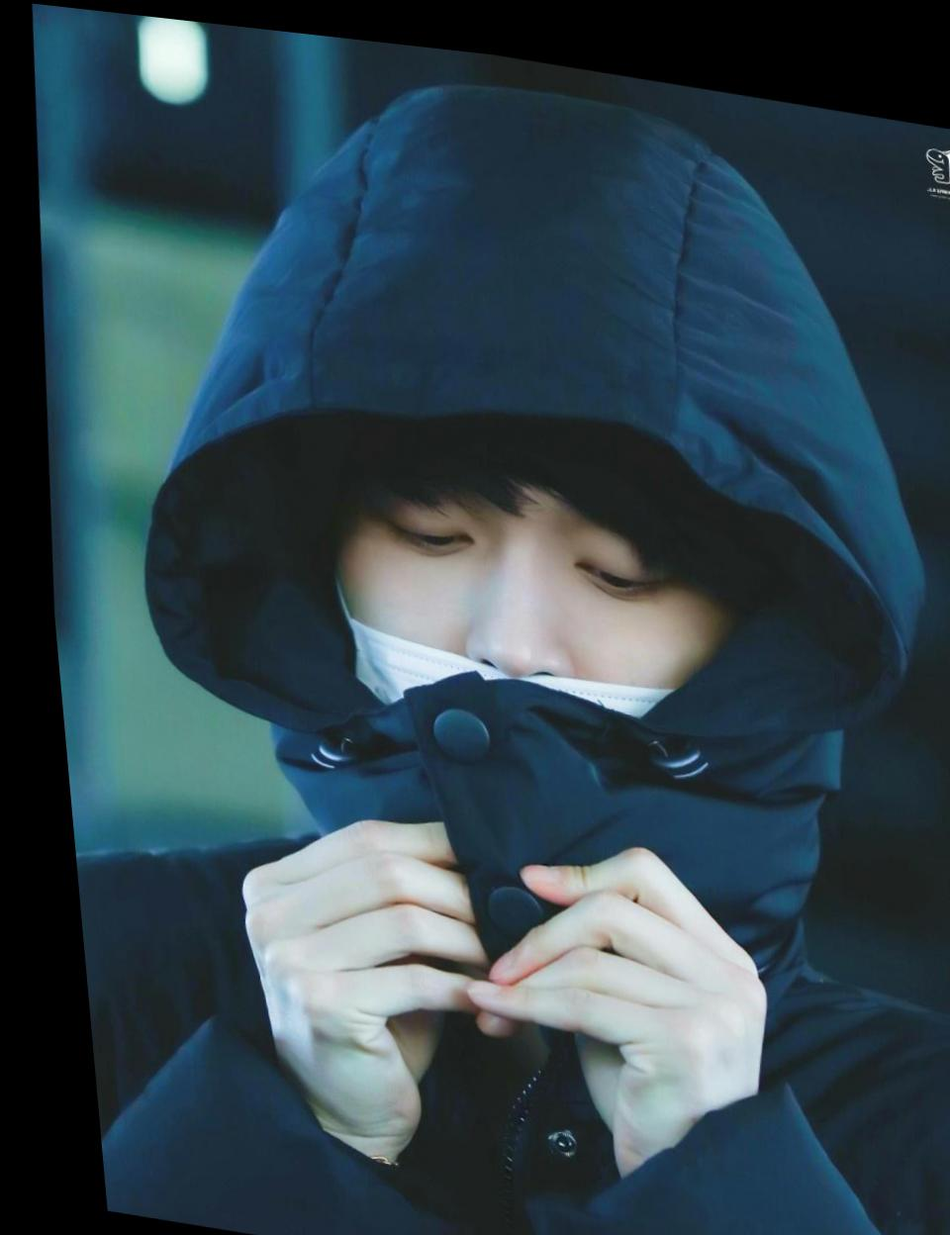WRONG: (293, 428, 763, 932)
